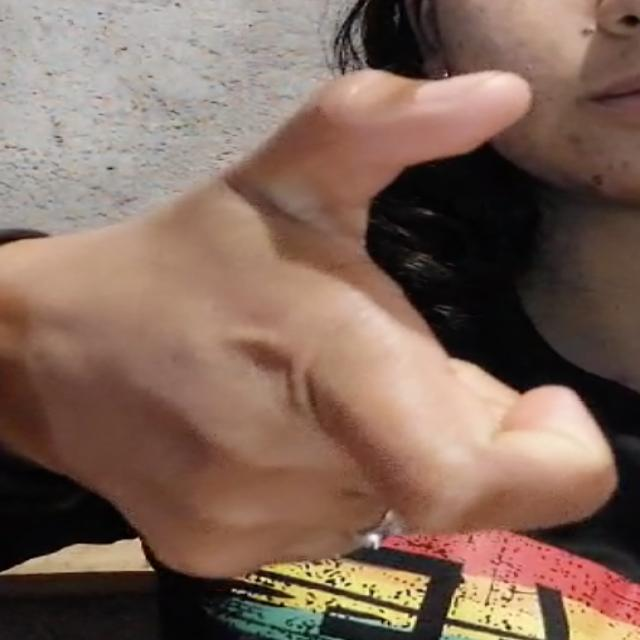Q: (4, 56, 623, 587)
